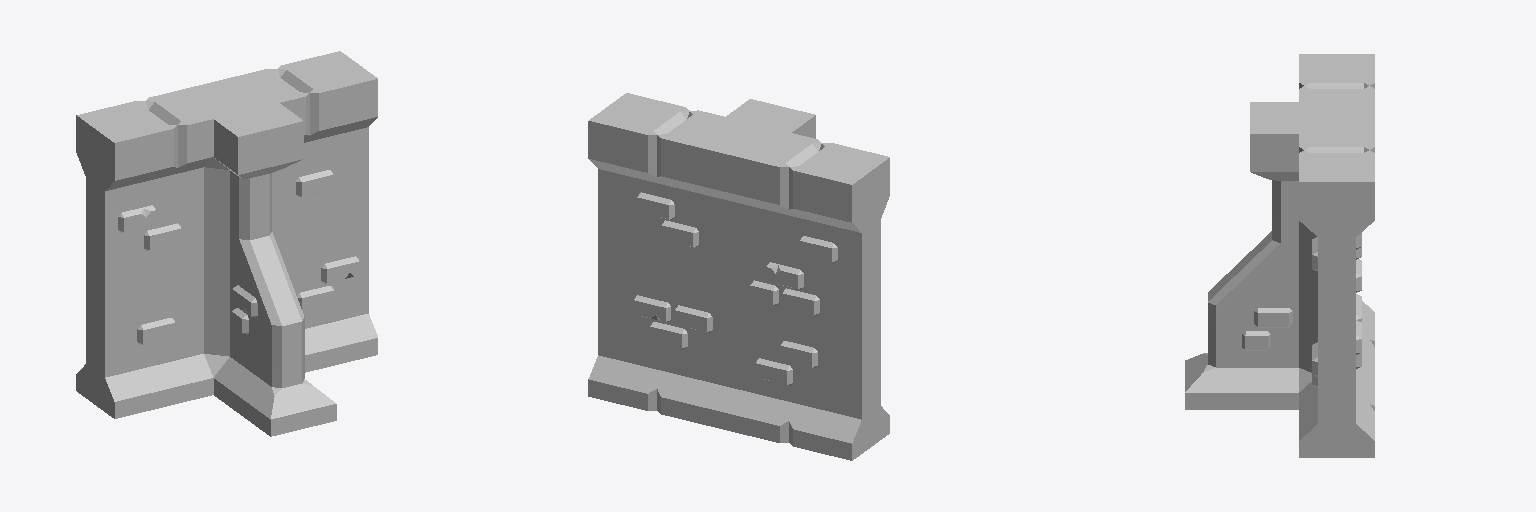
File: wall_Tsplit_sloped.obj
3 views of the same model, side by side, from view 1: azimuth 30°, elevation 25°; view 2: azimuth 150°, elevation 25°; view 3: azimuth 270°, elevation 25° (orthographic).
Parts seen in each view (by area): view 1: wall_Tsplit_sloped; view 2: wall_Tsplit_sloped; view 3: wall_Tsplit_sloped.
Boxes of the visible parts, x1,y1,x2,y2 form: wall_Tsplit_sloped: [76, 51, 377, 436]; wall_Tsplit_sloped: [588, 93, 889, 460]; wall_Tsplit_sloped: [1185, 54, 1374, 457].
Size of the model in its own units: 4 by 4 by 2.5.